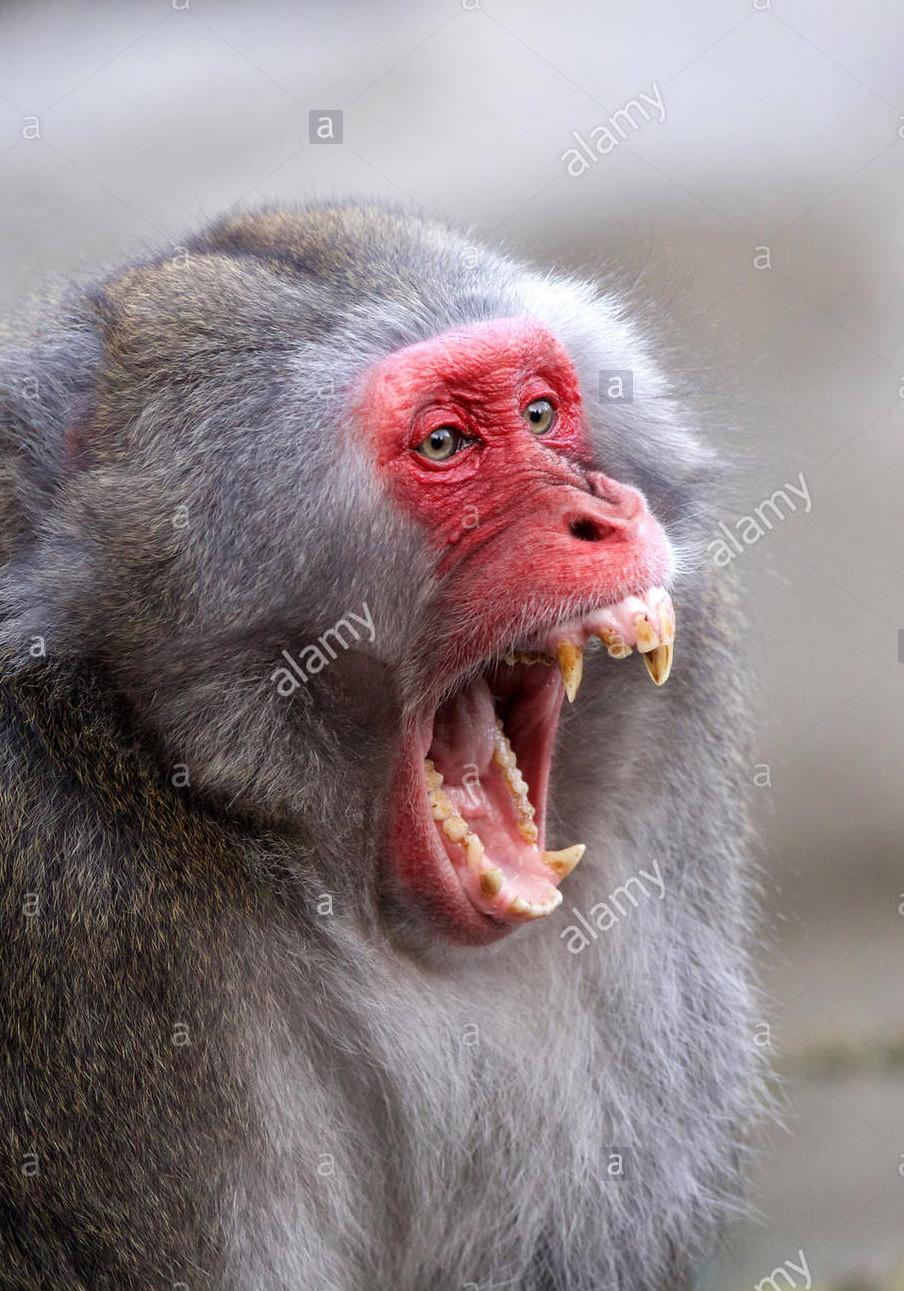monkey: (0, 205, 759, 1291)
